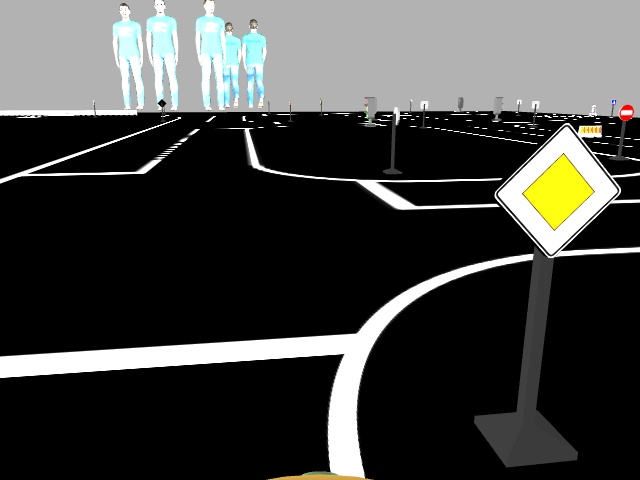Priority: (491, 123, 621, 259)
